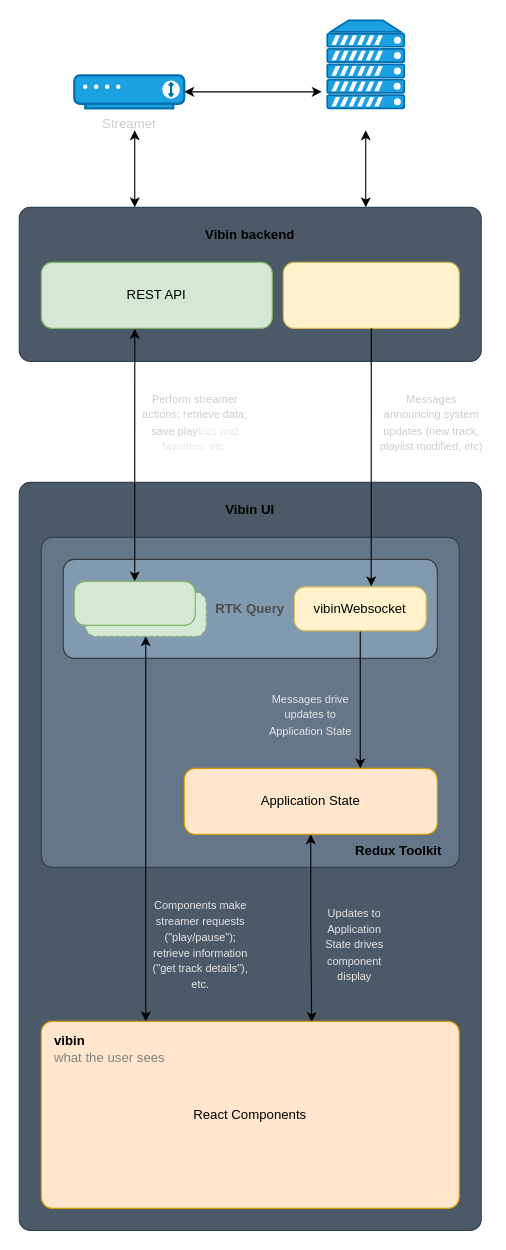
Some shapes in this 506 by 1250 pixel diagram are drawn without their labels. The box of each missing label's shape, as (x1, y1, x2, y2) in pixels:
NAS (media storage): (326, 19, 405, 109)
vibinAlbums/etc: (73, 580, 195, 625)
WebSocket Server: (282, 261, 459, 328)
